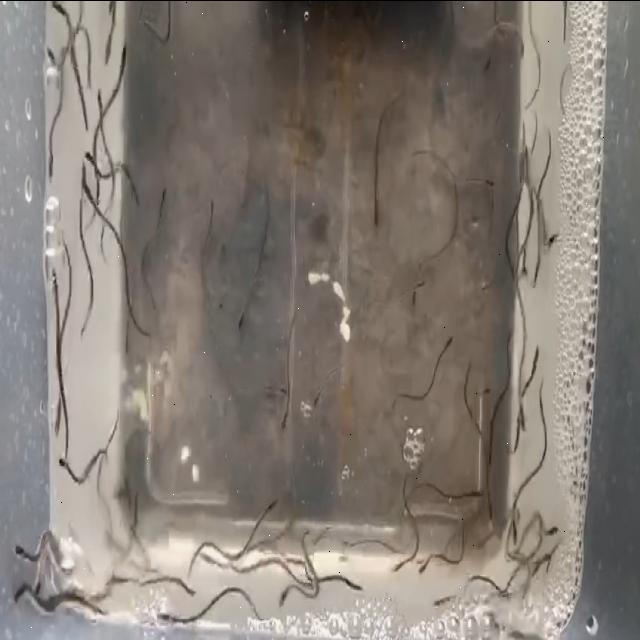inactive_glass_eel: (534, 206, 558, 272), (110, 34, 134, 84), (306, 372, 328, 419), (48, 246, 68, 296), (44, 136, 62, 188), (404, 274, 430, 310), (46, 0, 73, 34), (264, 476, 282, 526), (202, 184, 218, 240), (10, 525, 30, 569), (367, 186, 387, 228), (482, 481, 502, 522), (226, 302, 248, 338), (277, 384, 293, 432), (509, 424, 528, 462), (465, 468, 479, 516), (90, 92, 110, 124), (79, 169, 97, 203), (530, 344, 548, 378), (272, 582, 292, 612), (56, 440, 73, 474), (414, 548, 426, 595), (81, 139, 97, 173), (46, 34, 62, 68), (30, 573, 50, 600), (158, 607, 178, 634), (542, 512, 560, 542), (8, 584, 32, 605), (478, 382, 494, 412), (482, 53, 500, 79), (478, 175, 498, 198), (443, 328, 458, 357), (391, 554, 406, 578)
